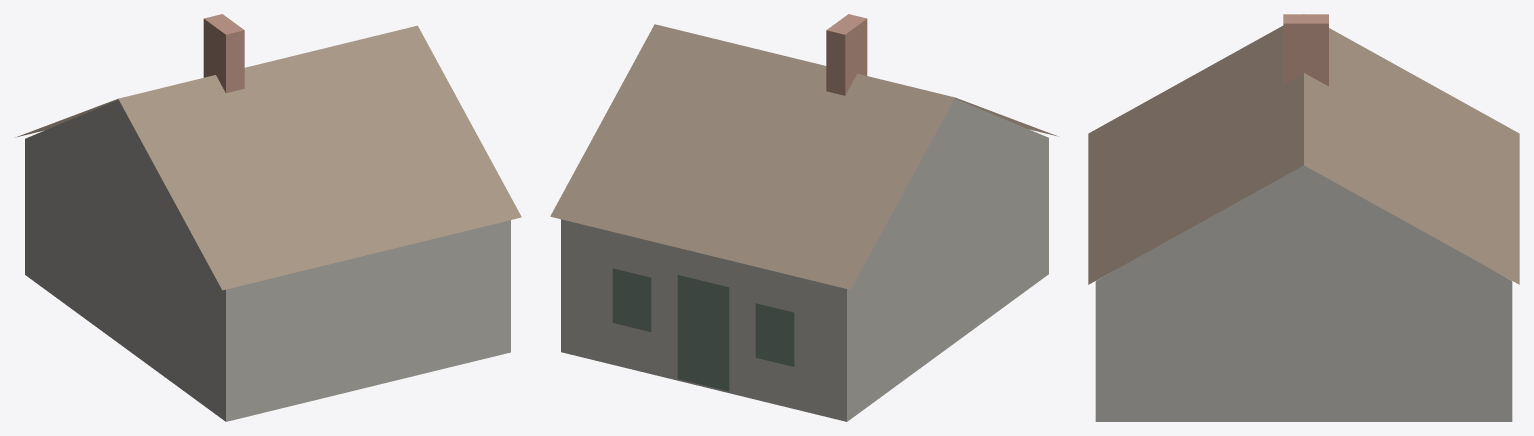
File: recon_1835_north_d1_060__recommended_1835.glb
3 views of the same model, side by side, from view 1: azimuth 30°, elevation 25°; view 2: azimuth 150°, elevation 25°; view 3: azimuth 270°, elevation 25° (orthographic). The views are drawn at different scales.
Parts seen in each view (by area): view 1: recon_1835_north_d1_060__recommended_1835; view 2: recon_1835_north_d1_060__recommended_1835; view 3: recon_1835_north_d1_060__recommended_1835.
Boxes of the visible parts, x1,y1,x2,y2 form: recon_1835_north_d1_060__recommended_1835: (15, 14, 521, 421); recon_1835_north_d1_060__recommended_1835: (550, 14, 1058, 421); recon_1835_north_d1_060__recommended_1835: (1088, 14, 1519, 421).
Bounding box in the file's own units: 5.77 × 5.5 × 6.95.
